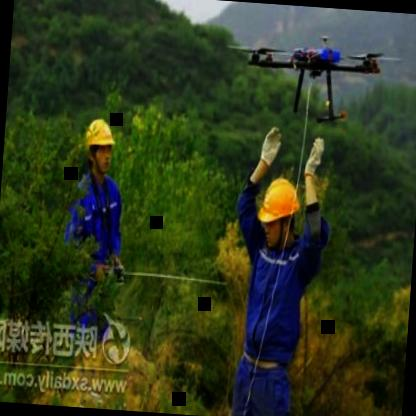helmet: (257, 175, 302, 251), (80, 113, 119, 181)
